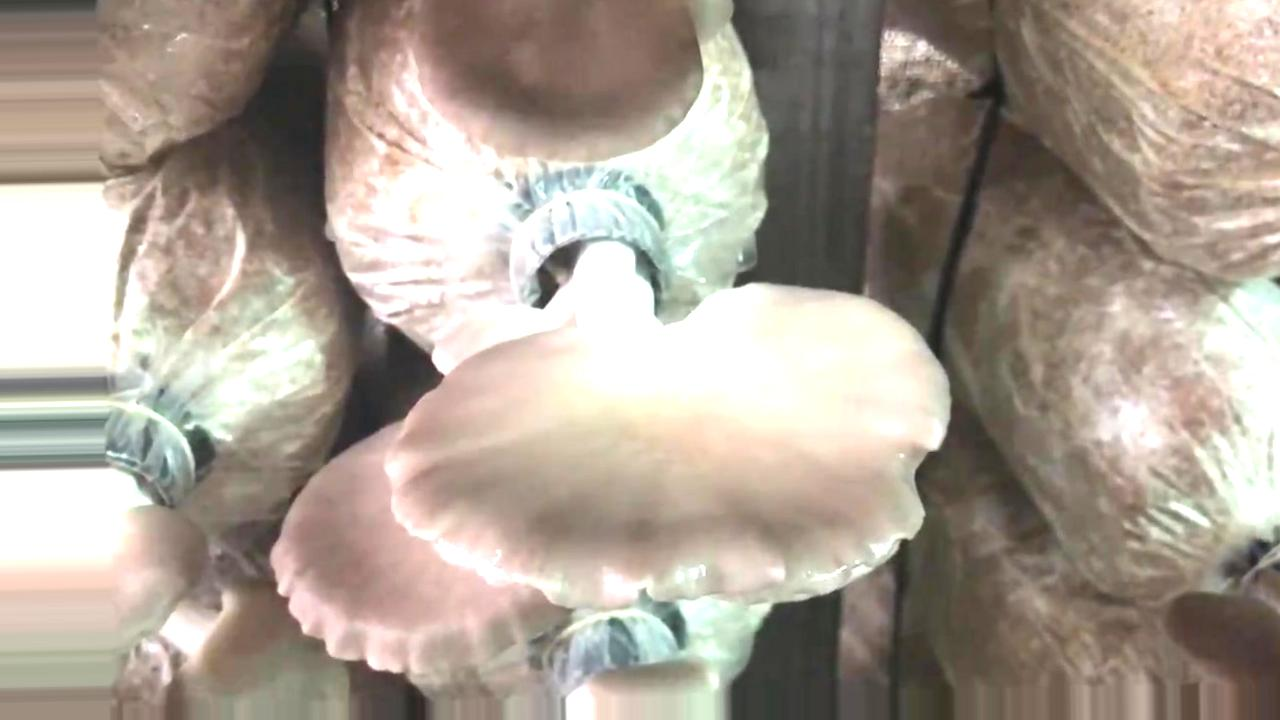nam: (389, 168, 949, 617), (267, 414, 570, 668), (413, 13, 705, 159)
